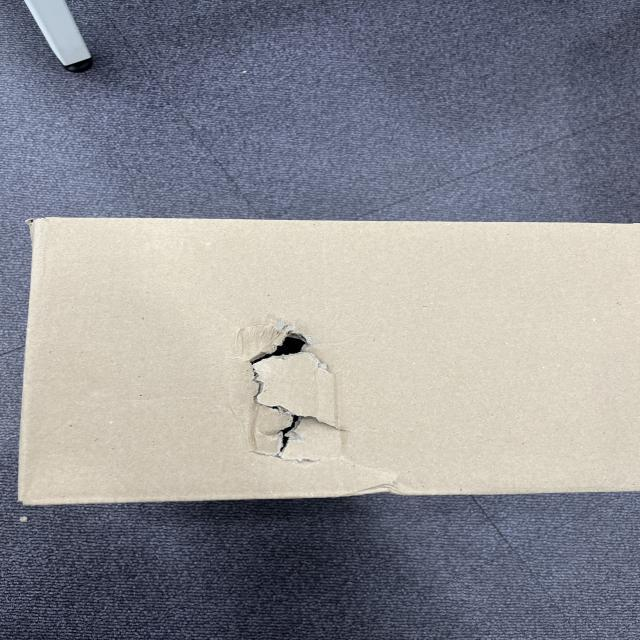hole: (233, 325, 364, 465)
